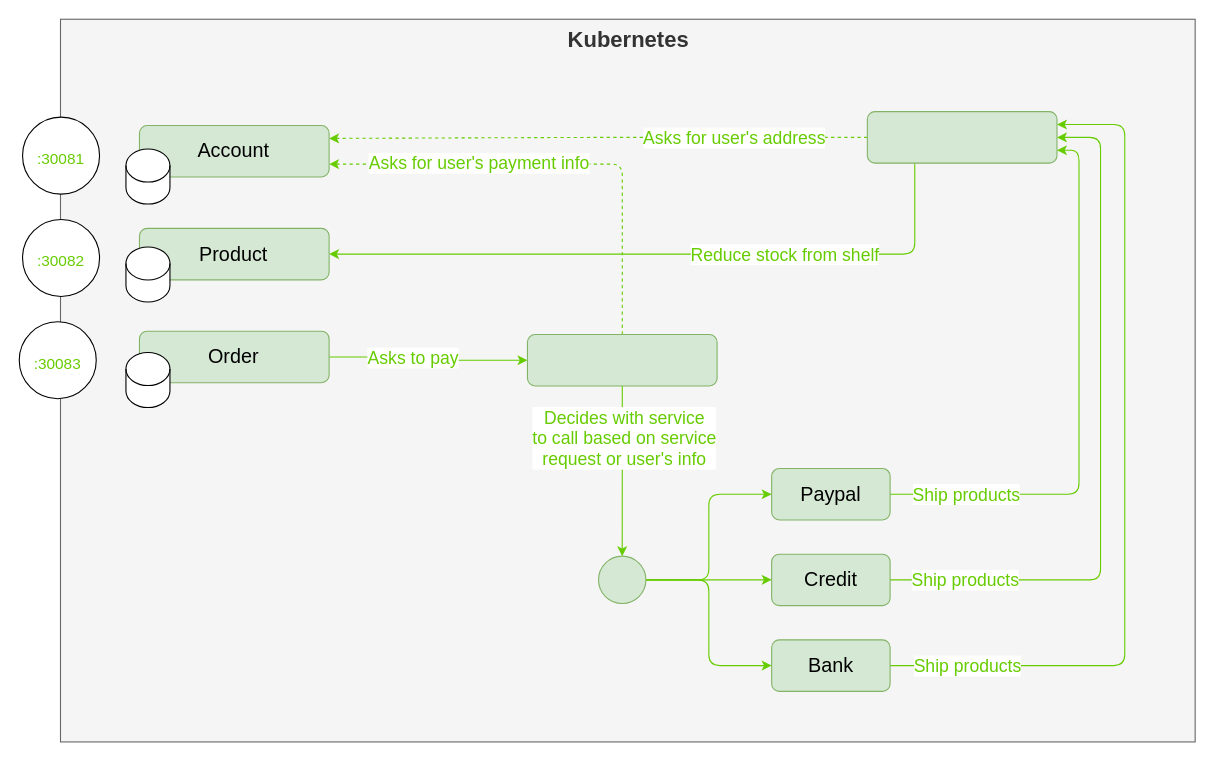
The diagram is 1214 pixels wide and 761 high, and some of its shapes have lost their labels. Here are the shapes that lost their labels. From the top down, the centre of each, then its label:
At point 961,137: "Shipment".
At point 621,359: "Payment".
